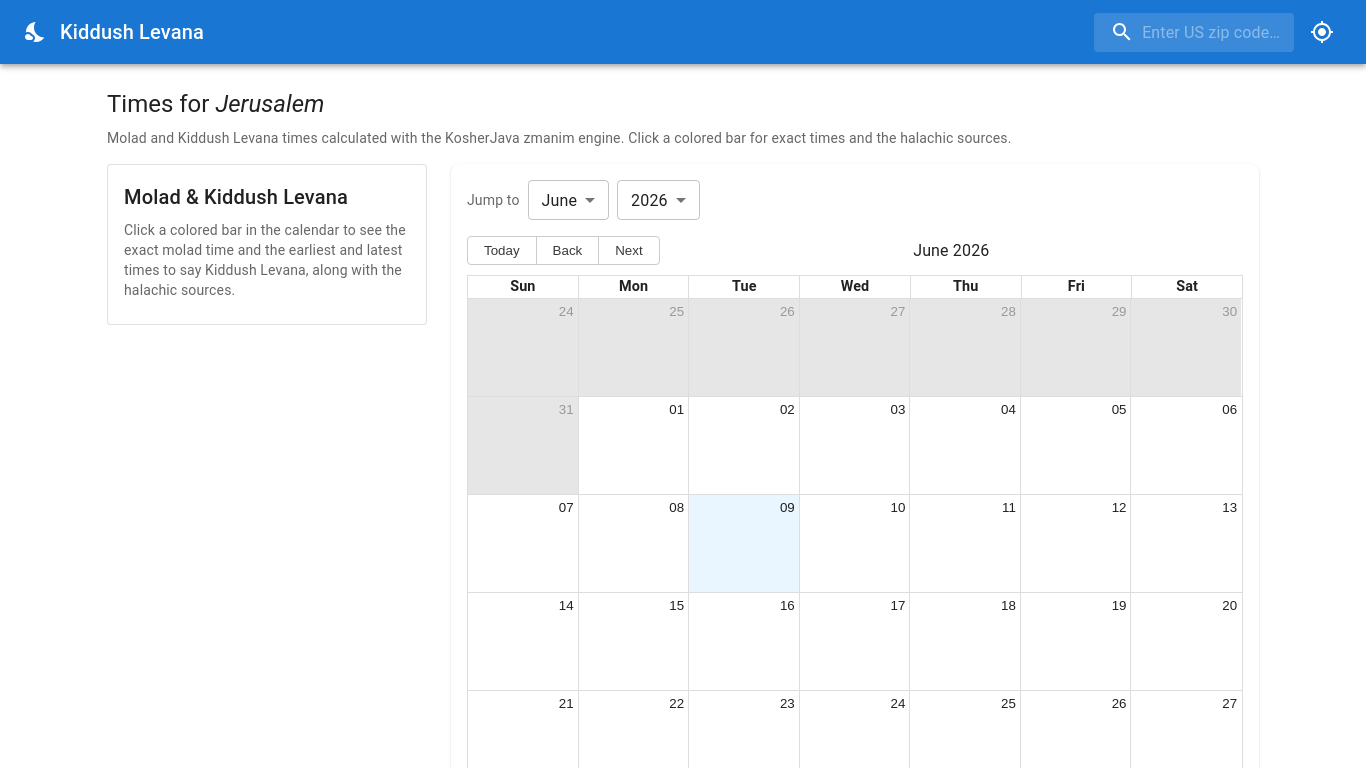
Scenario: App integration › surfaces an error for an unknown zip code without changing location
In the field named "search by zip": [1194, 32] box [1094,12,1294,52], type "00000"
Then press Enter
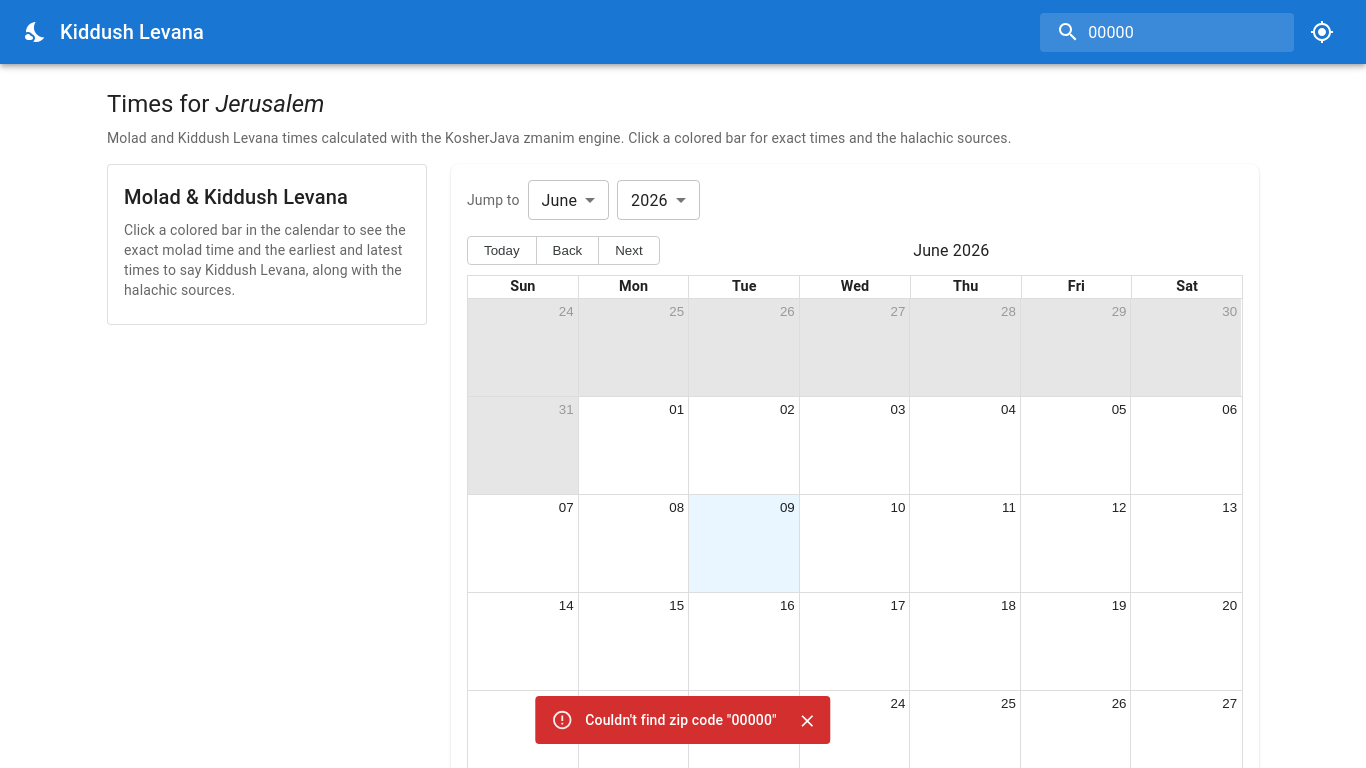
Expected: the heading "Times for Jerusalem" is shown, [107,90,324,118]
Expected: the text "Couldn't find zip code \"00000\"" is shown, [585,712,777,728]
